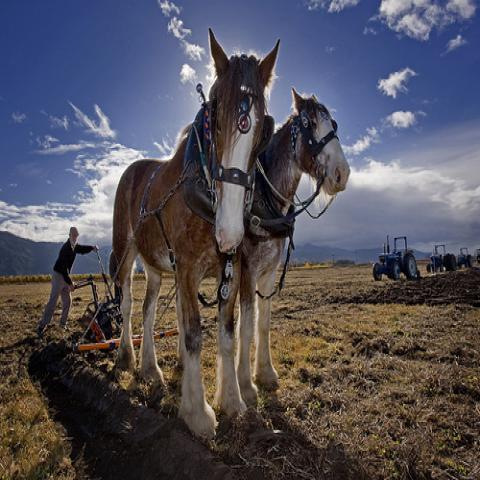truck: (371, 232, 418, 282), (427, 244, 456, 272), (457, 247, 473, 269)
